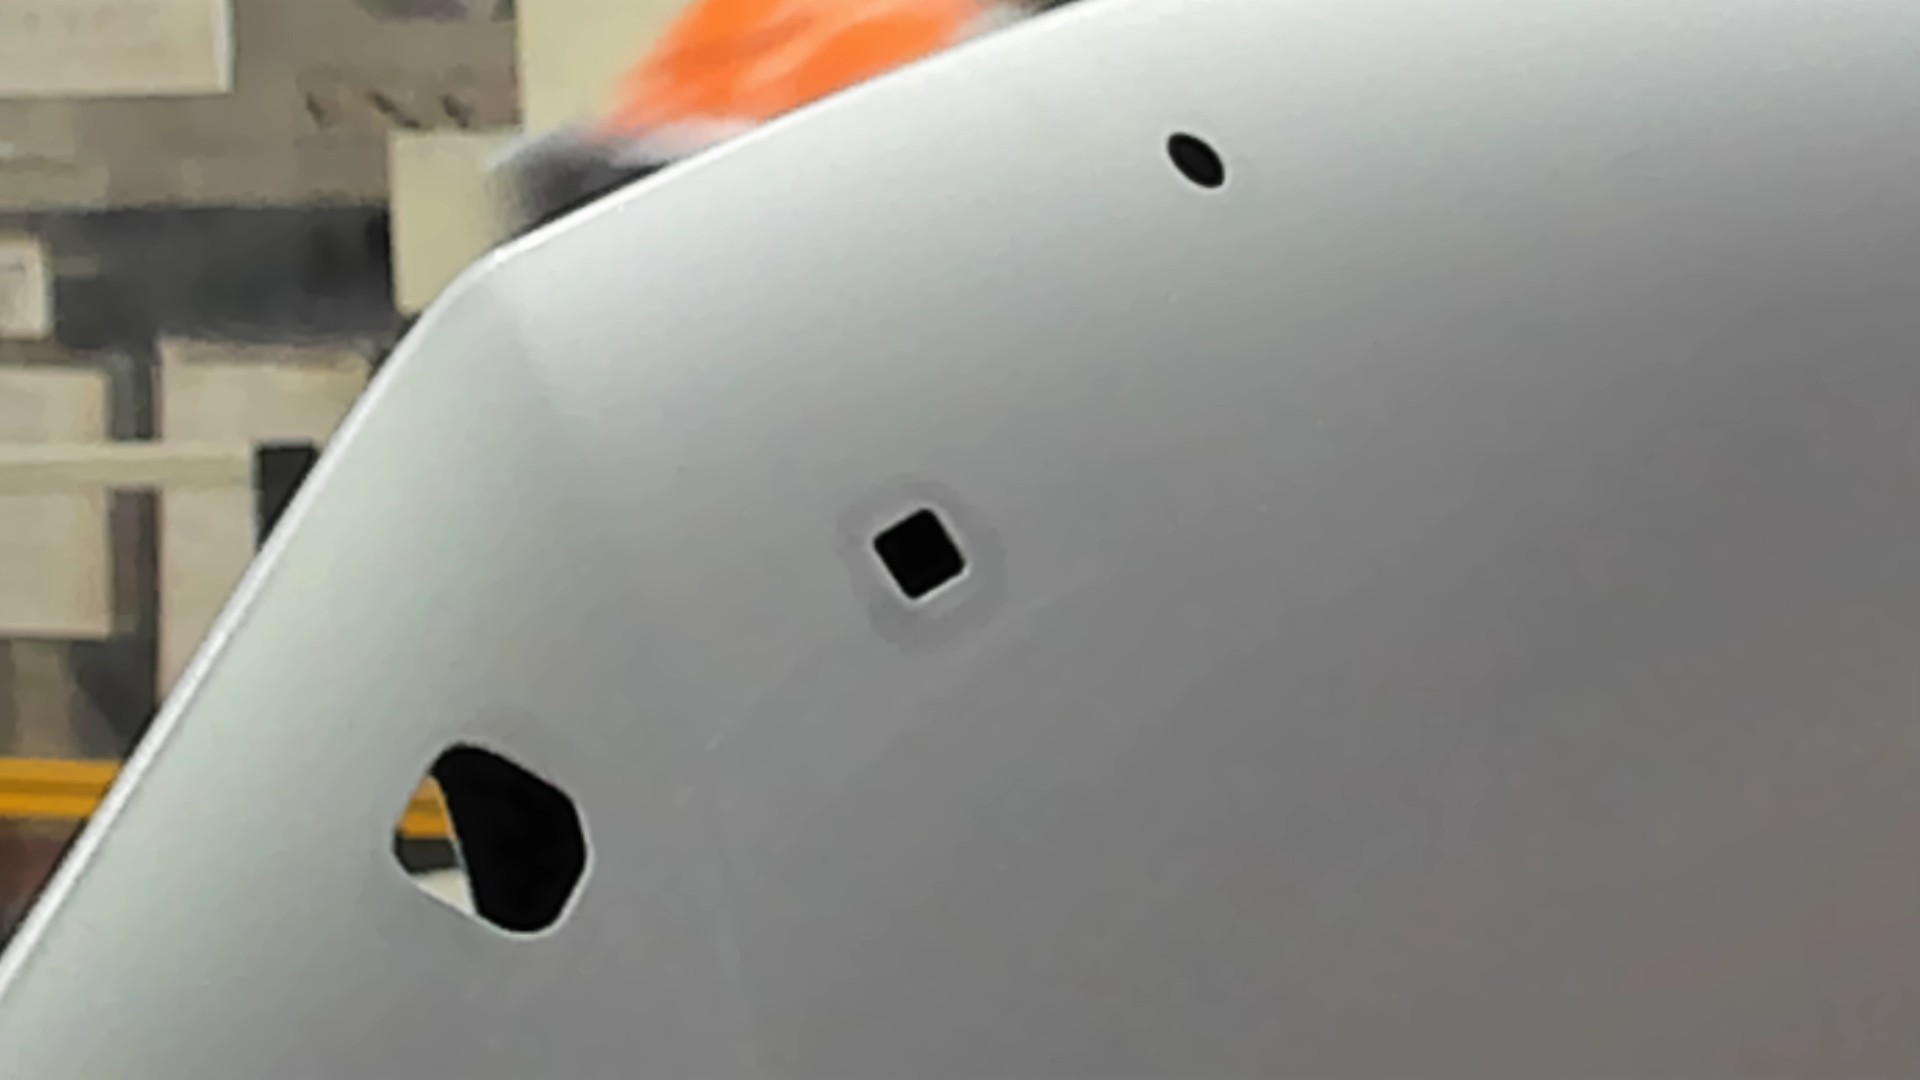chico: (1162, 129, 1228, 190)
grande: (386, 738, 596, 940)
mediano: (866, 505, 971, 611)
